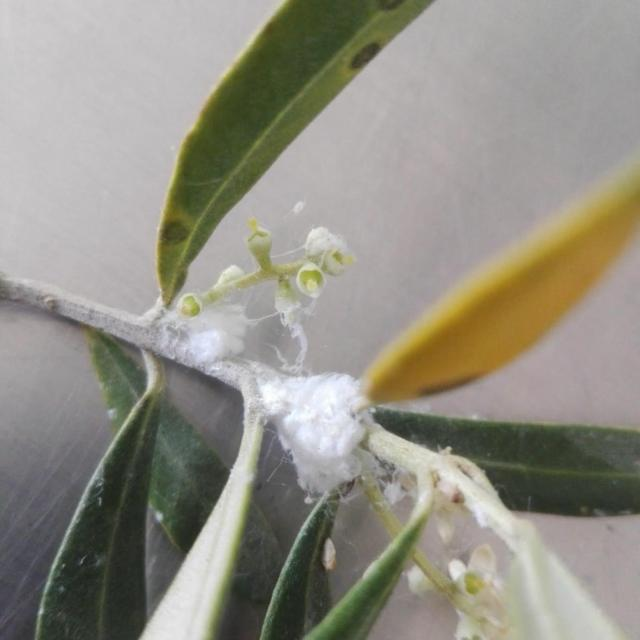Peacock Eye: (156, 0, 434, 315)
Psyllid: (170, 220, 353, 374), (256, 366, 404, 503)
